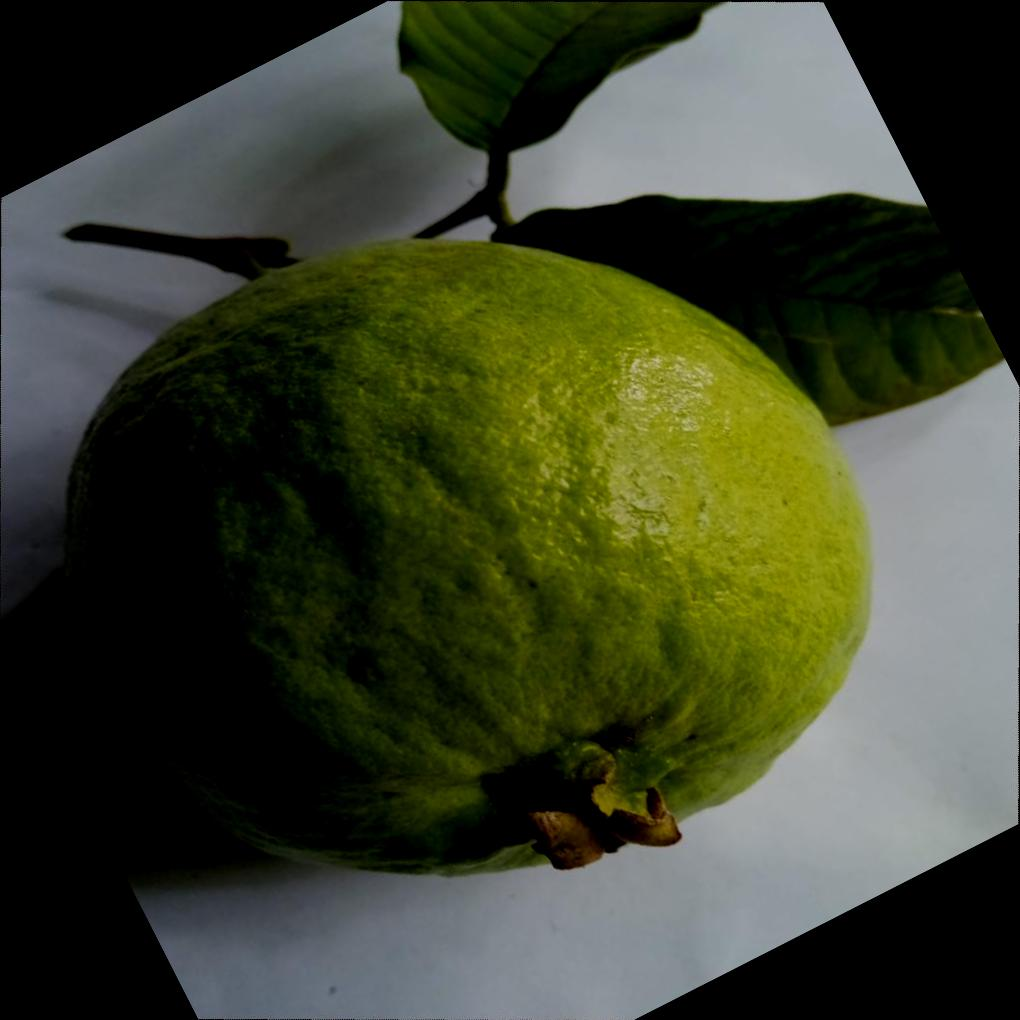FreshGuava: (55, 236, 872, 878)
